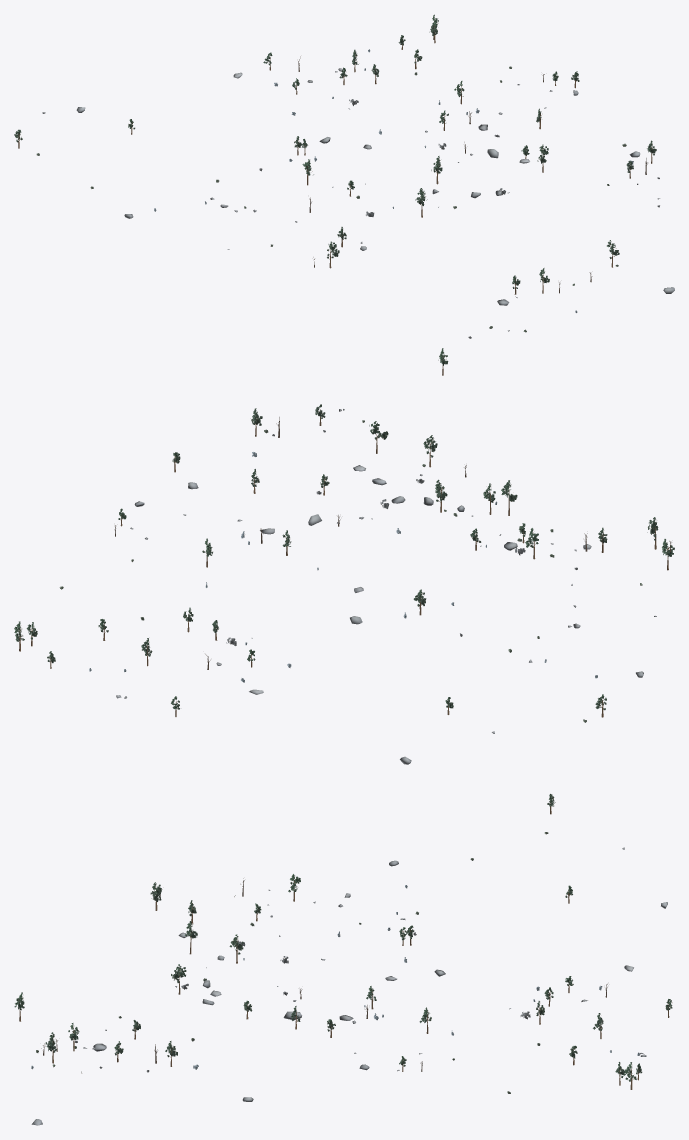
Rendered from frost_land_scatter_c16_11.glb.
3 views of the same model, one above another, from view 1: azimuth 30°, elevation 25°; view 2: azimuth 150°, elevation 25°; view 3: azimuth 270°, elevation 25° (orthographic). The views are drawn at different scales.
Visible parts, largest first — view 1: frost_land_scatter_c16_11; view 2: frost_land_scatter_c16_11; view 3: frost_land_scatter_c16_11.
Boxes of the visible parts, x1,y1,x2,y2 form: frost_land_scatter_c16_11: [14, 14, 674, 375]; frost_land_scatter_c16_11: [14, 404, 674, 764]; frost_land_scatter_c16_11: [14, 794, 672, 1125].
Size of the model in its own units: 245 by 65.1 by 259.
